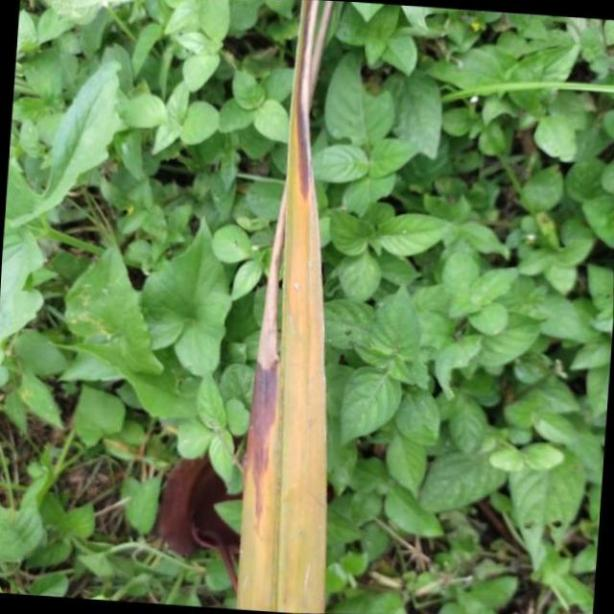Megnesium: (240, 0, 328, 614)
